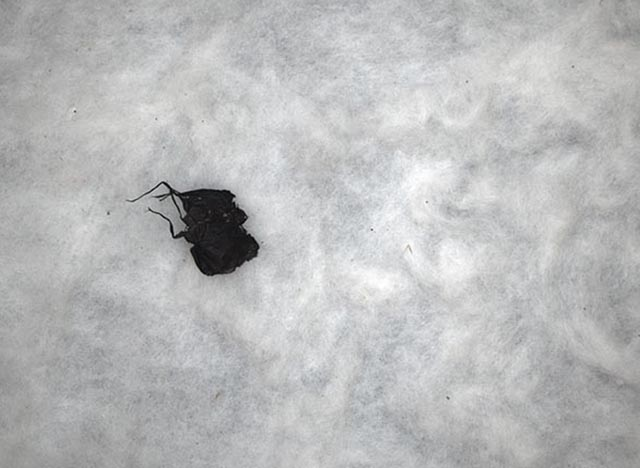plastic film: (124, 181, 261, 276)
